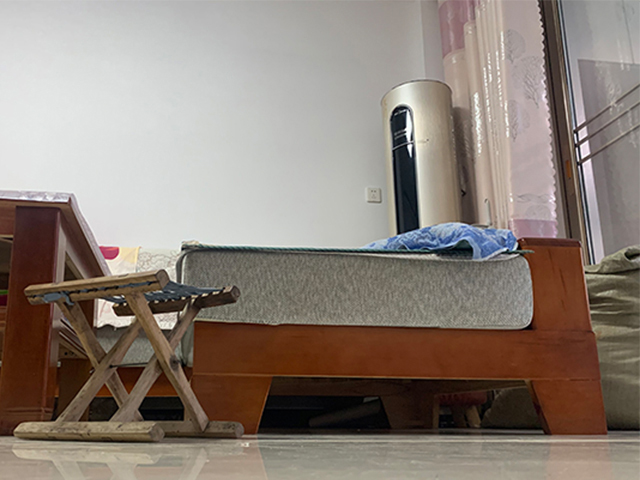curtain: (451, 1, 557, 236)
sofa: (176, 223, 608, 437)
stool: (13, 268, 245, 445)
table: (1, 188, 109, 436)
